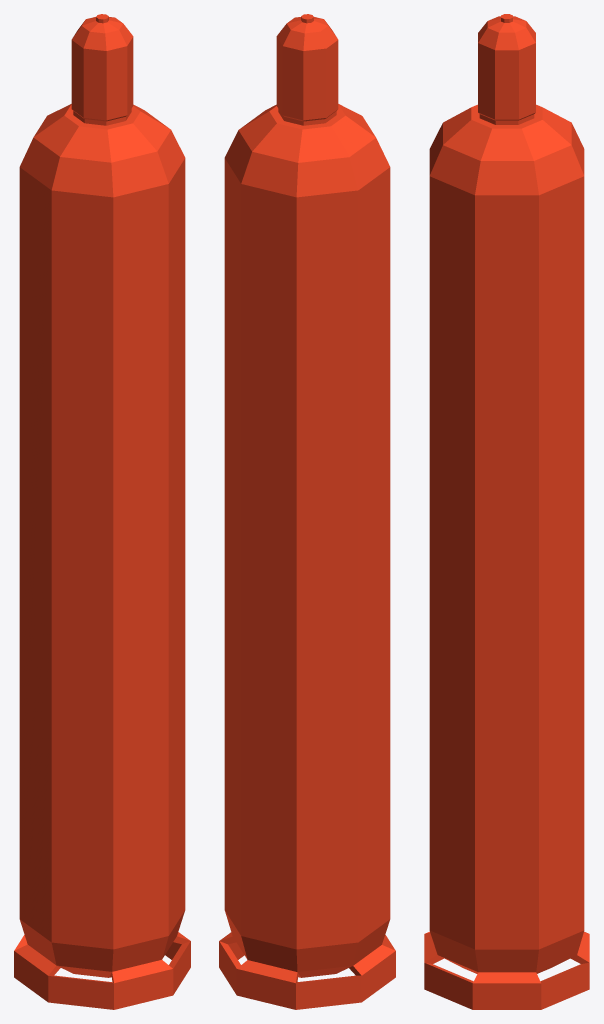
The model's file is SM_Gas_Bomb_A_City.fbx.
3 renders of one model, left to right at view 1: azimuth 30°, elevation 25°; view 2: azimuth 150°, elevation 25°; view 3: azimuth 270°, elevation 25°, orthographic.
Visible parts, largest first — view 1: SM_Gas_Bomb_A_City; view 2: SM_Gas_Bomb_A_City; view 3: SM_Gas_Bomb_A_City.
Part boxes in pixels (x1,y1,x2,y2): SM_Gas_Bomb_A_City: [14, 14, 190, 1009]; SM_Gas_Bomb_A_City: [219, 14, 395, 1009]; SM_Gas_Bomb_A_City: [424, 14, 589, 1009].
Size of the model in its own units: 0.2221 by 1.42 by 0.2221.
